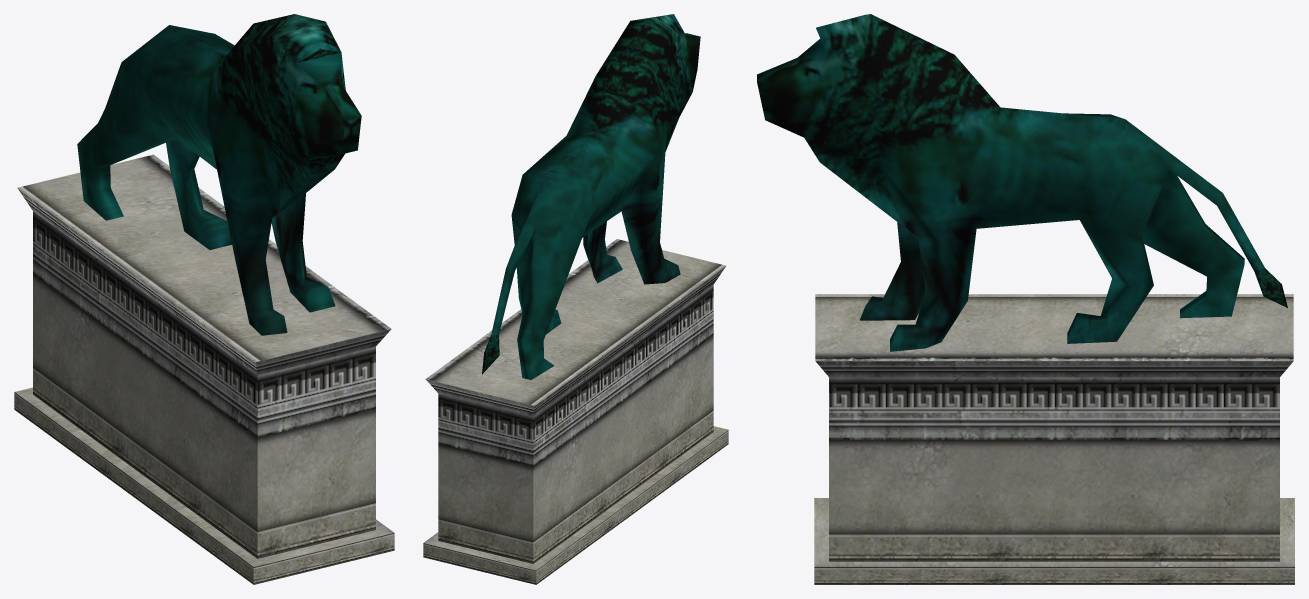
File: lion_statue.fbx
The picture shows the model from 3 angles, left to right: view 1: azimuth 30°, elevation 25°; view 2: azimuth 150°, elevation 25°; view 3: azimuth 270°, elevation 25°; orthographic projection. The views are drawn at different scales.
Parts seen in each view (by area): view 1: mesh_1, mesh_0; view 2: mesh_1, mesh_0; view 3: mesh_1, mesh_0.
Part boxes in pixels (x1,y1,x2,y2): mesh_1: (14, 154, 394, 584); mesh_0: (77, 14, 361, 335); mesh_1: (423, 239, 728, 584); mesh_0: (482, 14, 700, 379); mesh_1: (814, 294, 1294, 584); mesh_0: (757, 14, 1287, 351).
Bounding box in the file's own units: 82.55 × 299 × 272.
1 material, 1 textured.
